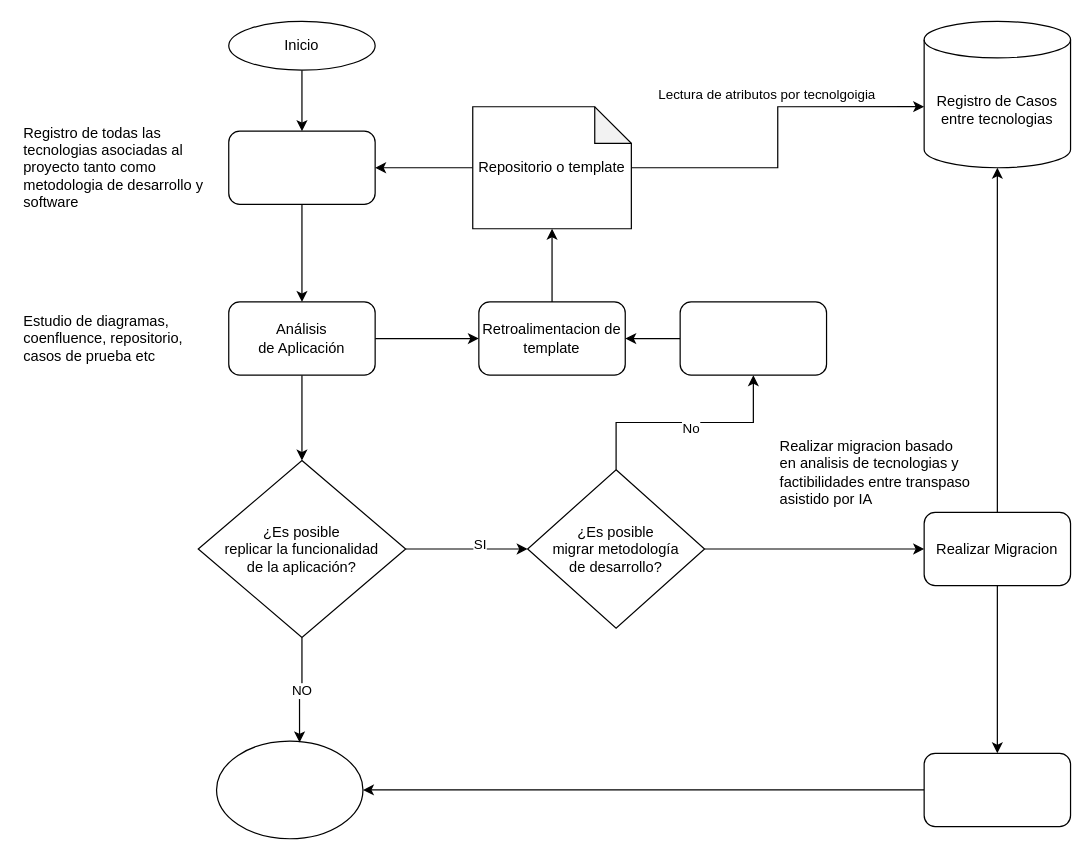
Some shapes in this 1092 by 860 pixel diagram are drawn without their labels. The box of each missing label's shape, as (x1, y1, x2, y2) in pixels:
Captura de propiedades del proyecto: (228, 130, 375, 204)
Fin: (215, 740, 363, 839)
Investigar: (679, 301, 827, 375)
Realizar documentacion: (923, 752, 1071, 827)
